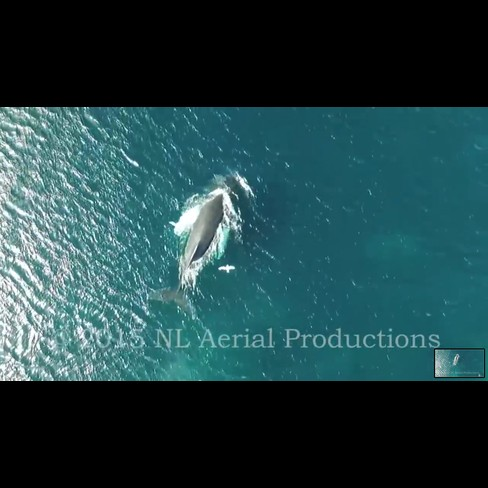hump: (141, 168, 253, 324)
